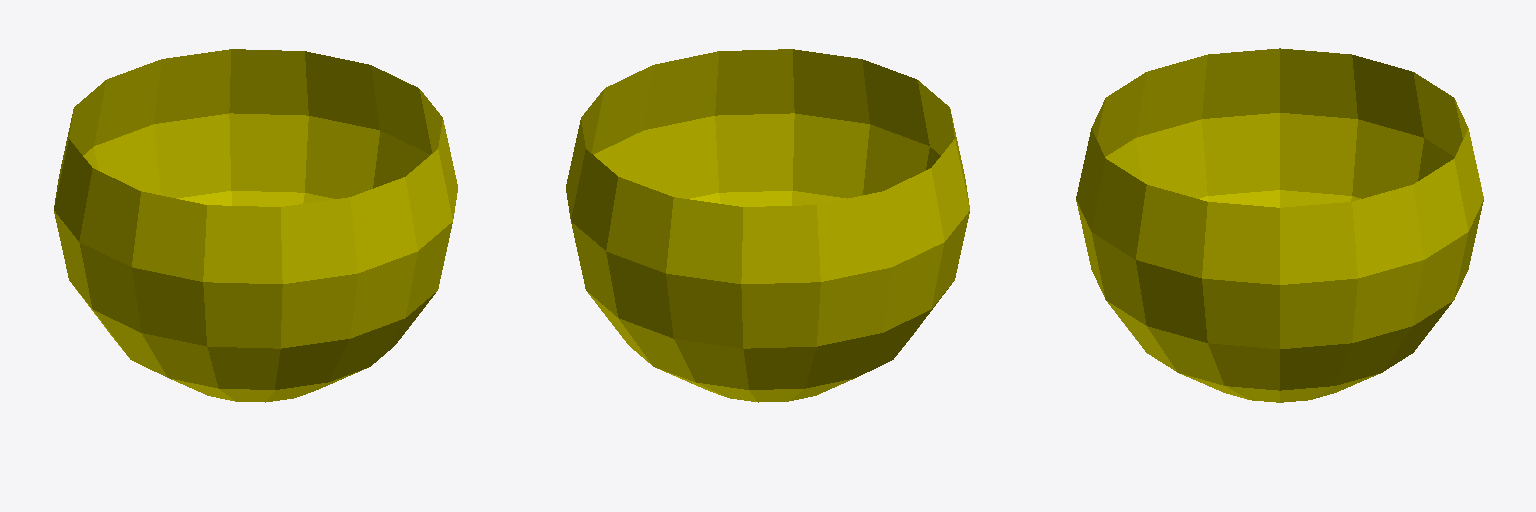
Rendered from onda.obj.
The picture shows the model from 3 angles: view 1: azimuth 30°, elevation 25°; view 2: azimuth 150°, elevation 25°; view 3: azimuth 270°, elevation 25°; orthographic projection.
Parts seen in each view (by area): view 1: Sphere; view 2: Sphere; view 3: Sphere.
Boxes of the visible parts, x1=… form: Sphere: x1=54, y1=49, x2=457, y2=402; Sphere: x1=566, y1=49, x2=969, y2=402; Sphere: x1=1076, y1=48, x2=1483, y2=402.
Size of the model in its own units: 2 by 1.38 by 2.